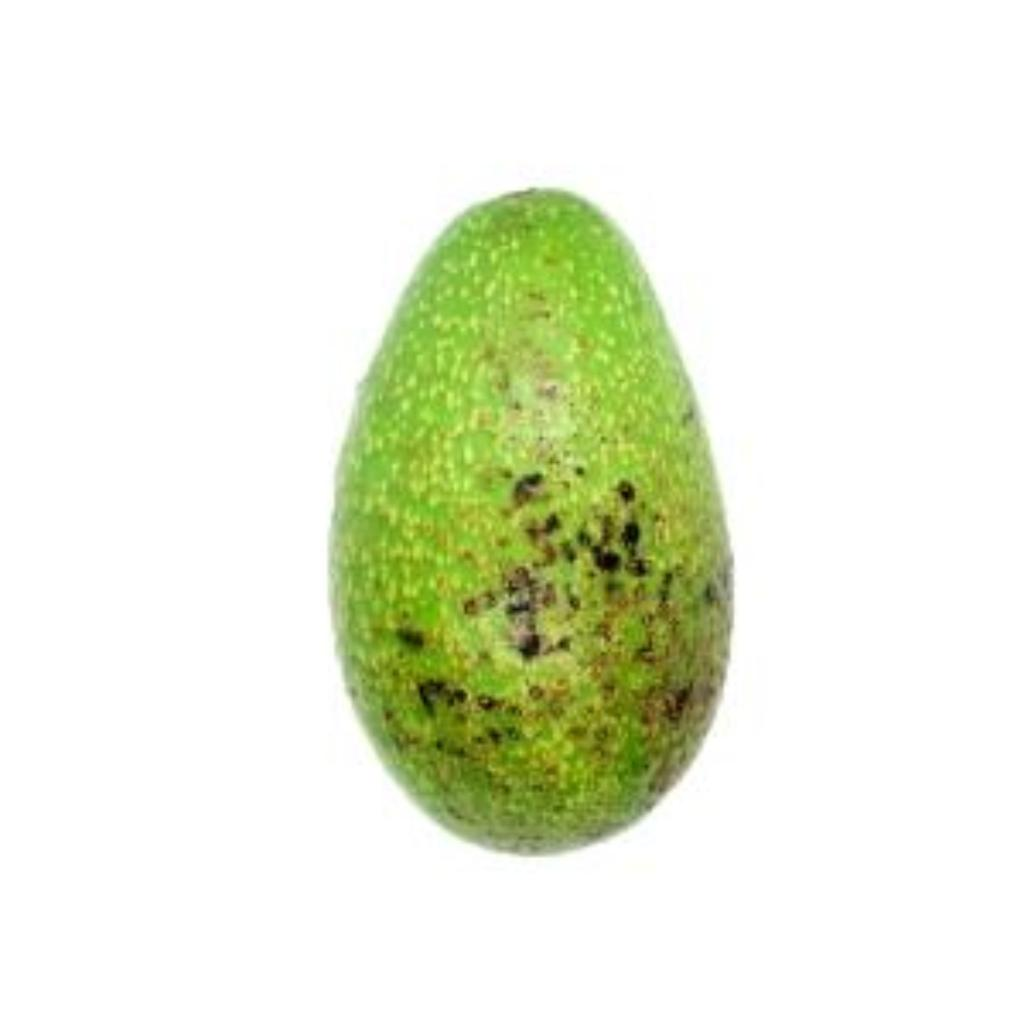cercospora: (291, 164, 762, 871)
